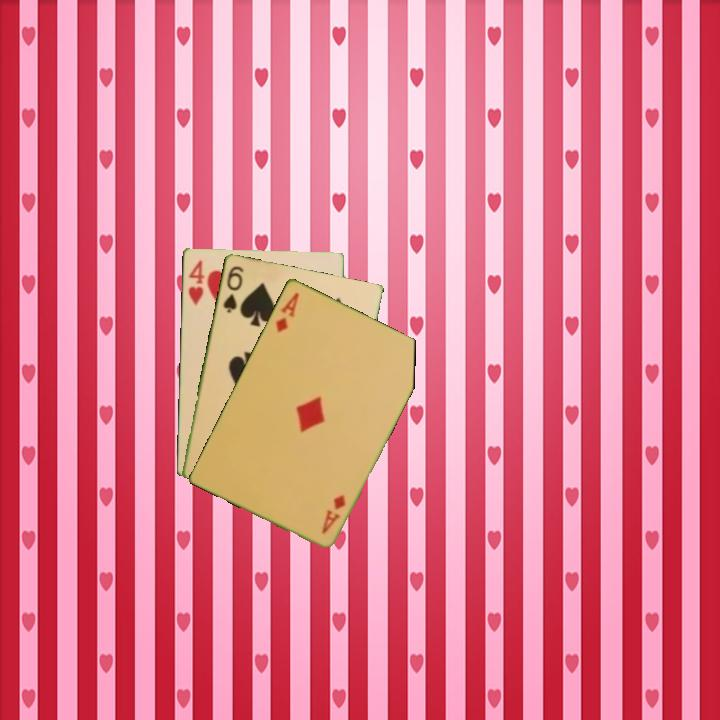4h: (184, 256, 207, 308)
6s: (219, 262, 246, 315)
Ad: (272, 288, 302, 335), (318, 491, 349, 536)
